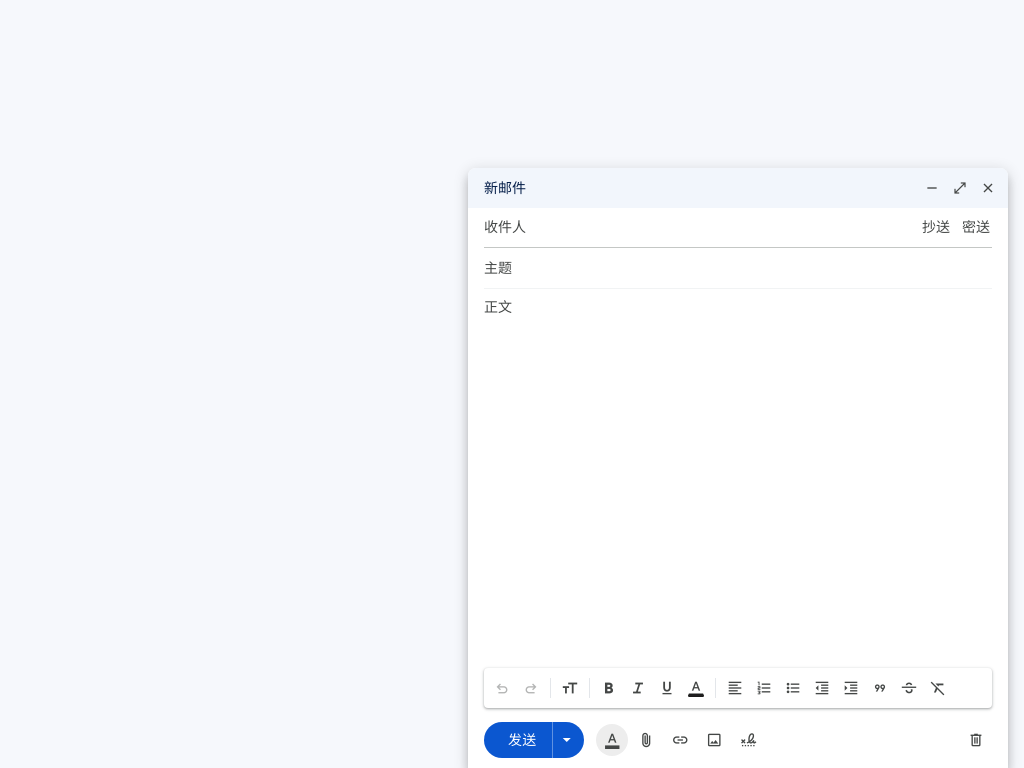
Scenario: ComposeWindow — drafts › creates the draft lazily on the first edit, then autosaves with the version
This screenshot has width=1024, height=768.
Expected: the heading "新邮件" is shown, top-left (484, 168), bottom-right (910, 208)
Step 1. Type "周报" into the field labelled "主题" → (738,268), box top-left (484, 248), bottom-right (992, 288)
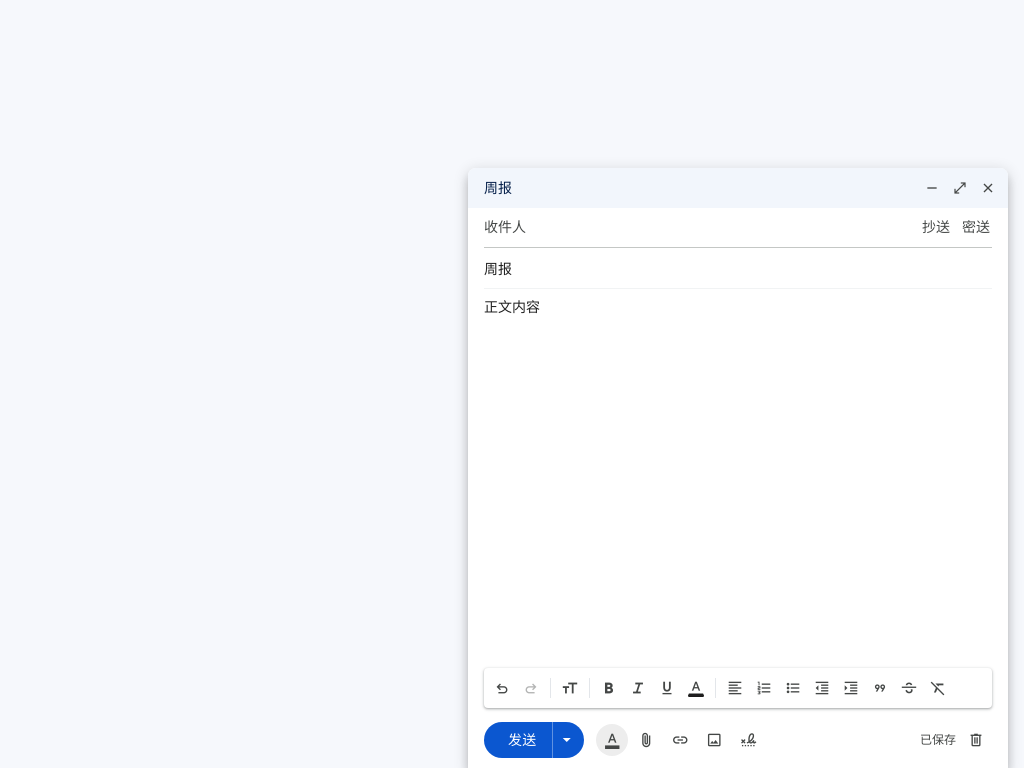
Result: the heading "周报" is shown at top-left (484, 168), bottom-right (910, 208)
Result: the text "已保存" is shown at top-left (920, 733), bottom-right (956, 747)
